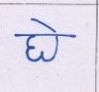e_matra: (30, 18, 60, 33)
